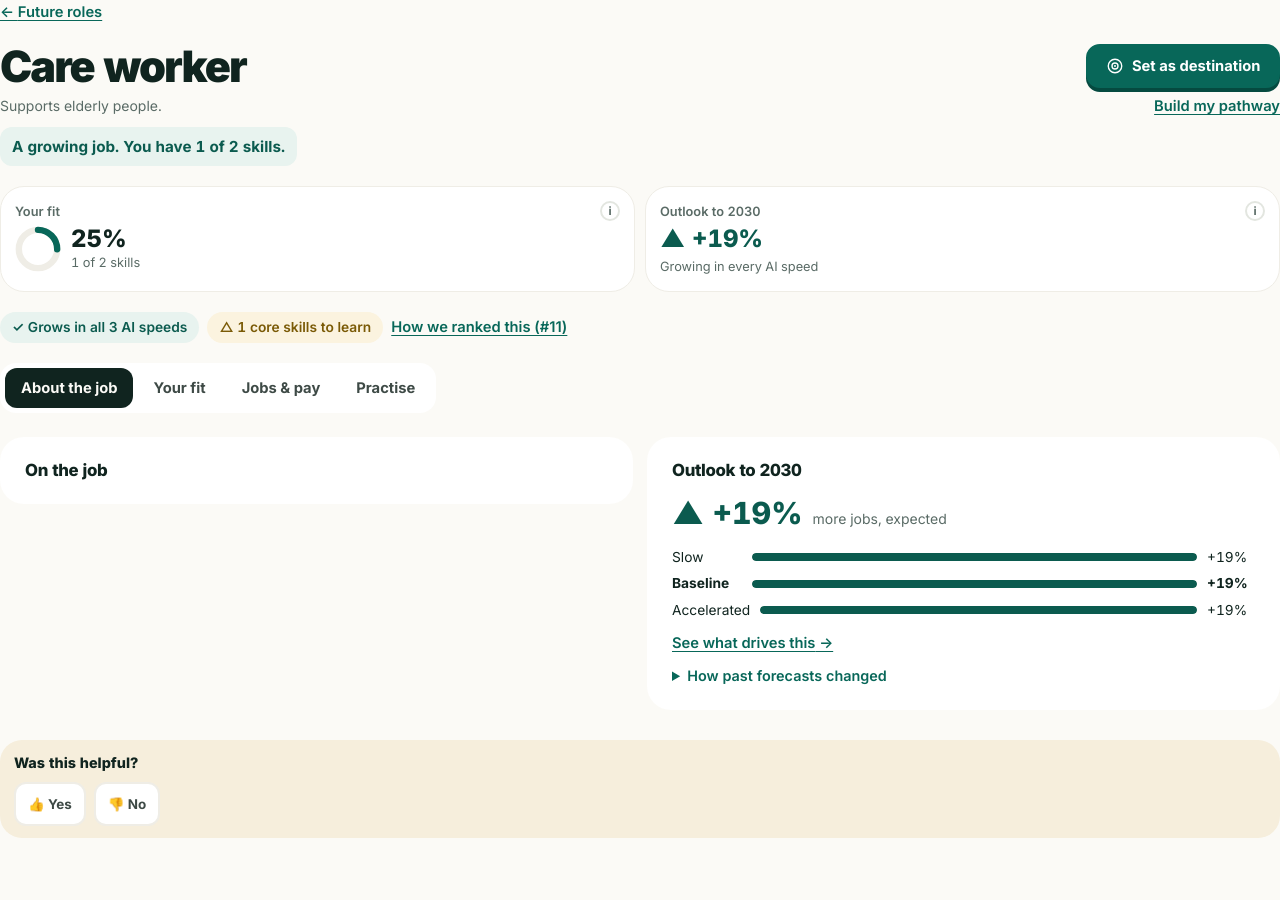
Role page › answers is-this-for-me first and keeps the score maths in a sheet
Expected: the text "A growing job. You have 1 of 2 skills." is shown, [0,127,297,166]
Expected: the text "Skill fit 25% × 0.6" is not shown
Step 1. Click the button "How we ranked this (#11)" → (479, 328), box [391,315,567,340]
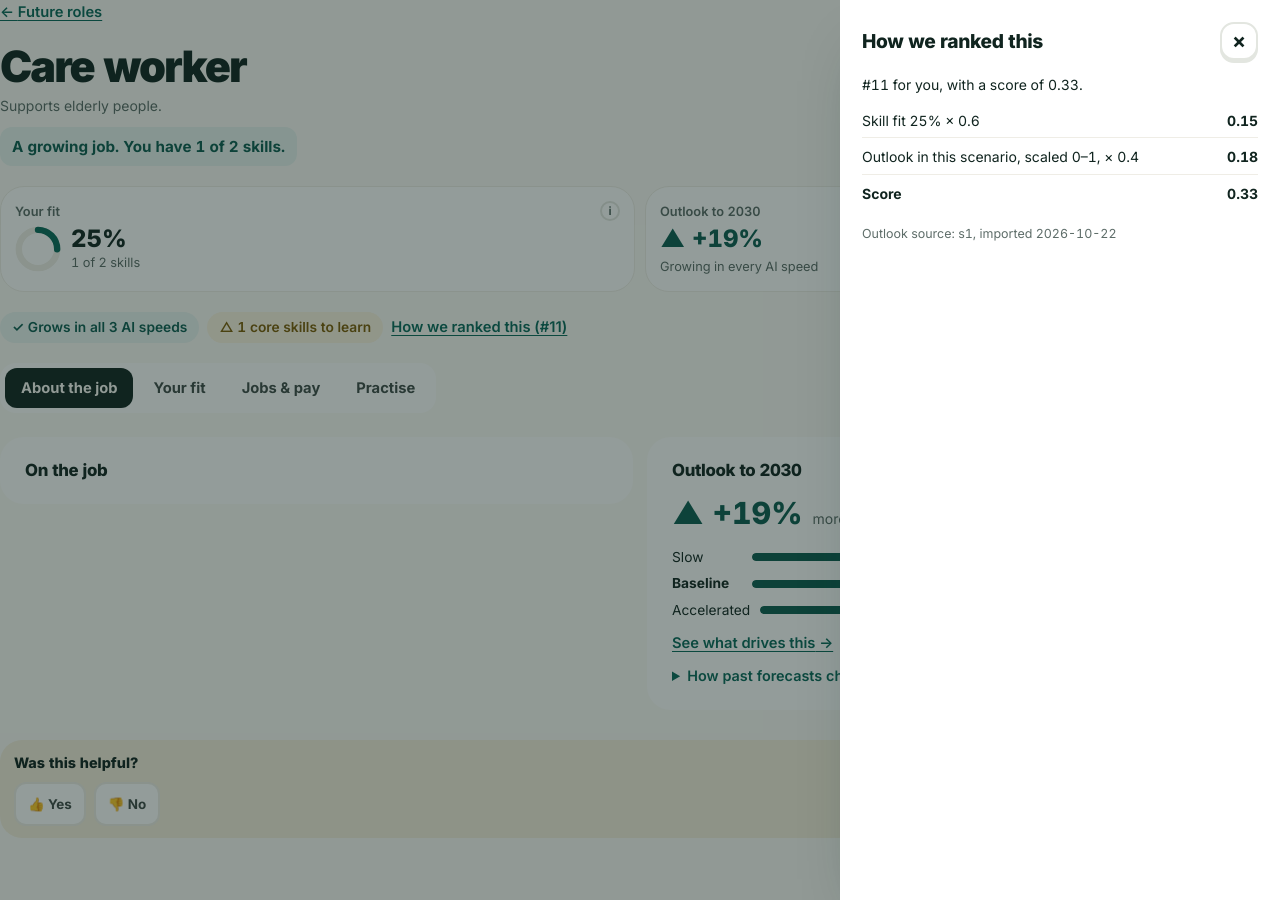
Expected: the dialog "How we ranked this" is shown, [840,0,1279,899]
Expected: the text "Skill fit 25% × 0.6" is shown, [862,110,980,131]
